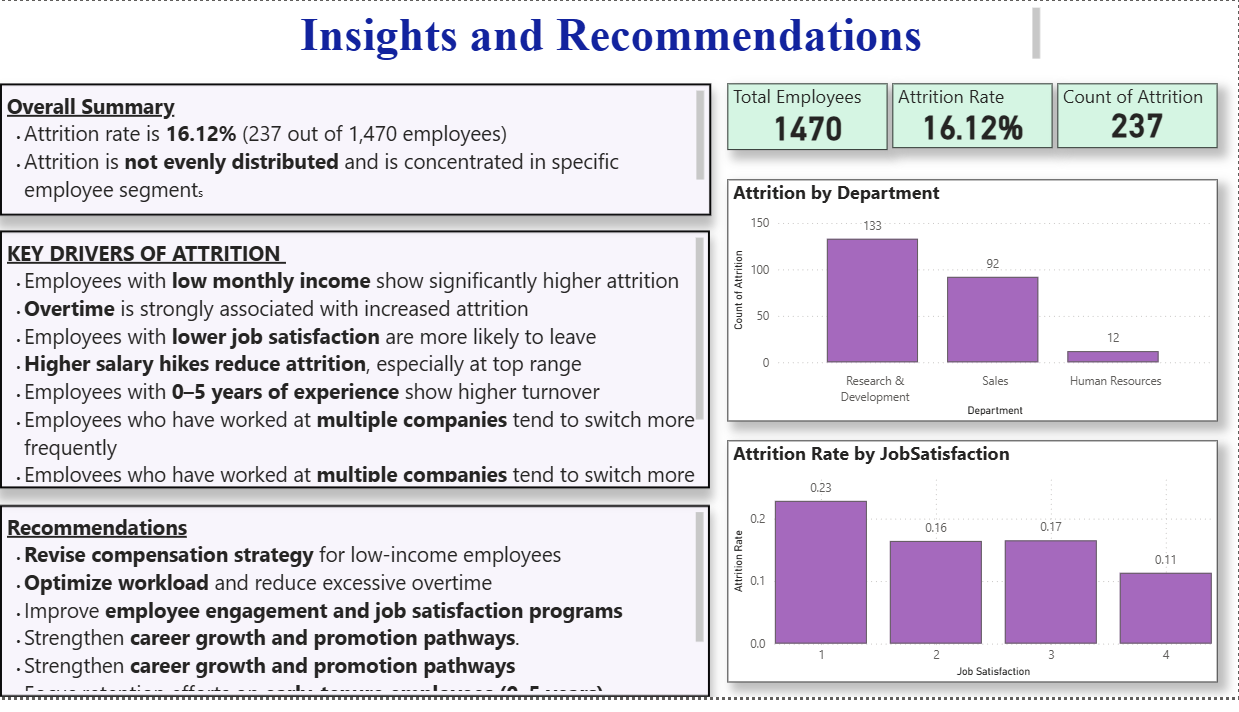

The dashboard page shown, as its layout file describes it:
{"tool":"powerbi","page":{"name":"Summary dashboard","canvas":[1280,720],"ordinal":2},"visuals":[{"type":"clusteredColumnChart","title":" Attrition by Department","fields":{"Category":["WA_Fn-UseC_-HR-Employee-Attrition.Department"],"Y":["CountNonNull(WA_Fn-UseC_-HR-Employee-Attrition.Attrition)"]},"box":[751.7,185,506.7,250],"z":0},{"type":"card","title":"Total Employees","fields":{"Values":["CountNonNull(WA_Fn-UseC_-HR-Employee-Attrition.EmployeeCount)"]},"box":[751.7,85,165,68.3],"z":1000},{"type":"card","title":"Attrition Rate","fields":{"Values":["WA_Fn-UseC_-HR-Employee-Attrition.Attrition Rate"]},"box":[923.3,85,165,66.7],"z":2000},{"type":"clusteredColumnChart","title":"Attrition Rate by JobSatisfaction","fields":{"Category":["WA_Fn-UseC_-HR-Employee-Attrition.JobSatisfaction"],"Y":["WA_Fn-UseC_-HR-Employee-Attrition.Attrition Rate"]},"box":[751.7,455,506.7,250],"z":3000},{"type":"kpi","title":"Count of Attrition ","fields":{"TrendLine":["WA_Fn-UseC_-HR-Employee-Attrition.Attrition"],"Indicator":["CountNonNull(WA_Fn-UseC_-HR-Employee-Attrition.Attrition)"]},"box":[1093.3,85,165,66.7],"z":4000},{"type":"textbox","box":[190,1.9,889.9,64.3],"z":5000},{"type":"textbox","box":[0,237.6,734.1,266.8],"z":6000},{"type":"textbox","box":[0,85,735,136.7],"z":7000},{"type":"textbox","box":[0,521.9,734.1,198.6],"z":8000}]}

Visuals, with their boxes in screenshot pixels (x1, y1, x2, y2), scaled from the page's 1280x720 canvas onto the 1239x712 screenshot:
" Attrition by Department" clusteredColumnChart: region(728, 183, 1218, 430)
"Total Employees" card: region(728, 84, 887, 152)
"Attrition Rate" card: region(894, 84, 1053, 150)
"Attrition Rate by JobSatisfaction" clusteredColumnChart: region(728, 450, 1218, 697)
"Count of Attrition " kpi: region(1058, 84, 1218, 150)
textbox: region(184, 2, 1045, 65)
textbox: region(0, 235, 711, 499)
textbox: region(0, 84, 711, 219)
textbox: region(0, 516, 711, 711)
